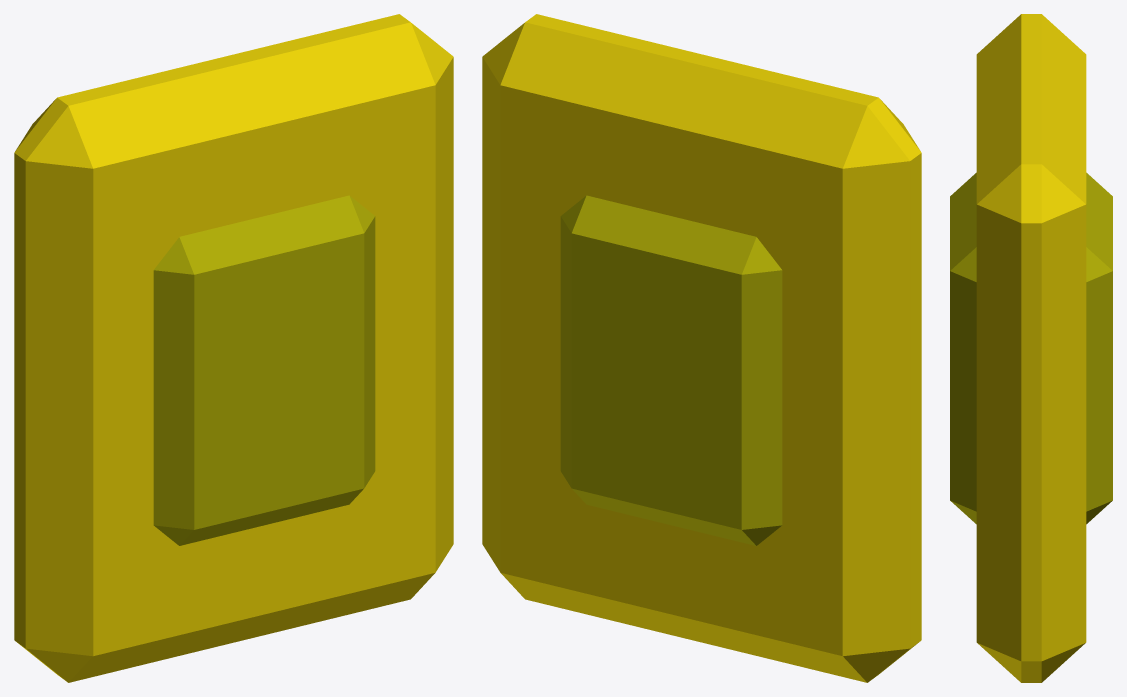
Rendered from Gem2.fbx.
3 views of the same model, side by side, from view 1: azimuth 30°, elevation 25°; view 2: azimuth 150°, elevation 25°; view 3: azimuth 270°, elevation 25° (orthographic). The views are drawn at different scales.
Parts seen in each view (by area): view 1: Gem2a, Gem2b; view 2: Gem2a, Gem2b; view 3: Gem2a, Gem2b.
Boxes of the visible parts, <box> form: Gem2a: <box>14,14,453,682</box>; Gem2b: <box>153,195,375,545</box>; Gem2a: <box>482,14,921,682</box>; Gem2b: <box>560,195,782,545</box>; Gem2a: <box>976,14,1086,682</box>; Gem2b: <box>950,172,1112,524</box>.
Bounding box in the file's own units: 99.92 × 129 × 36.65.
